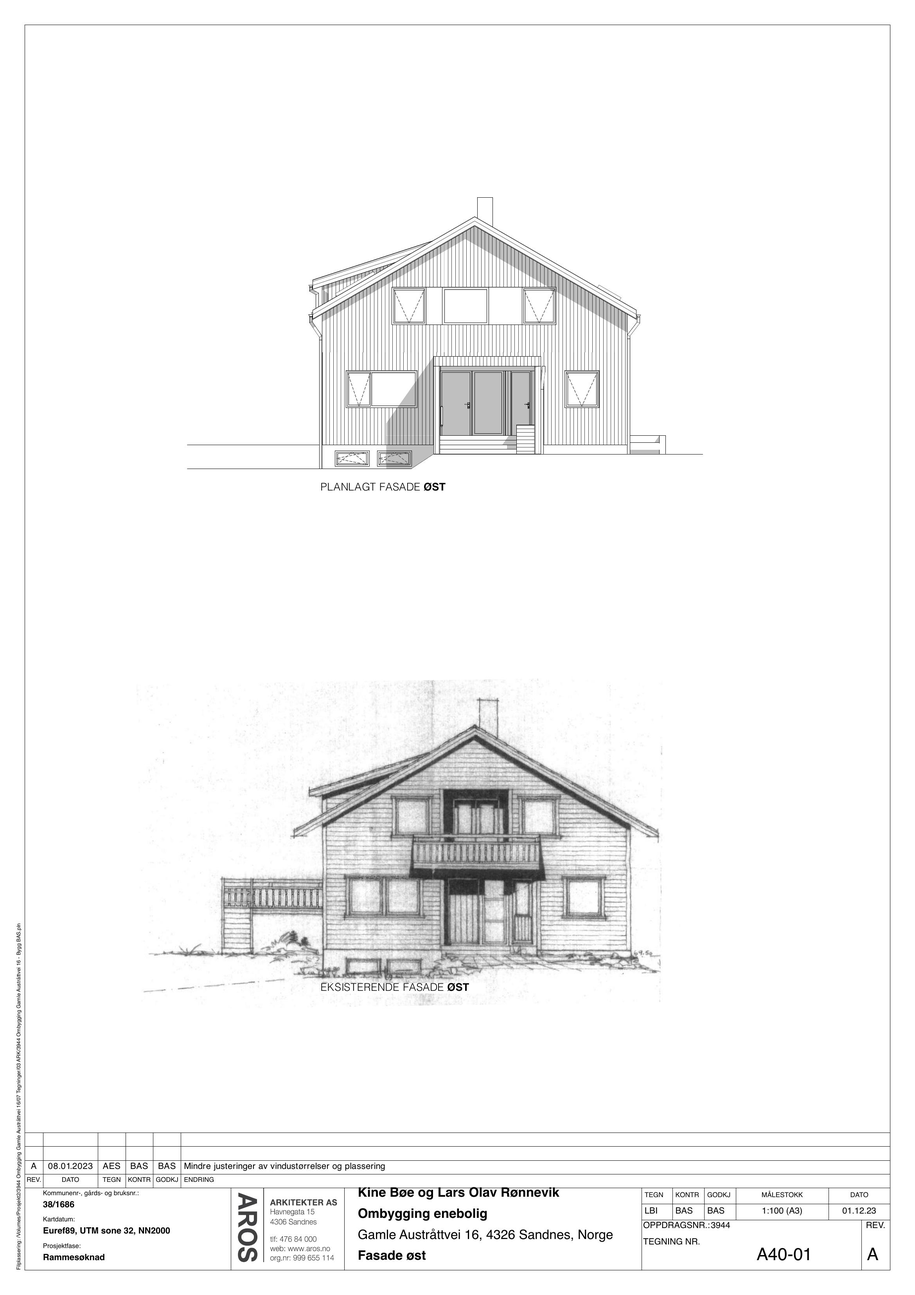fasade: (219, 698, 663, 985)
